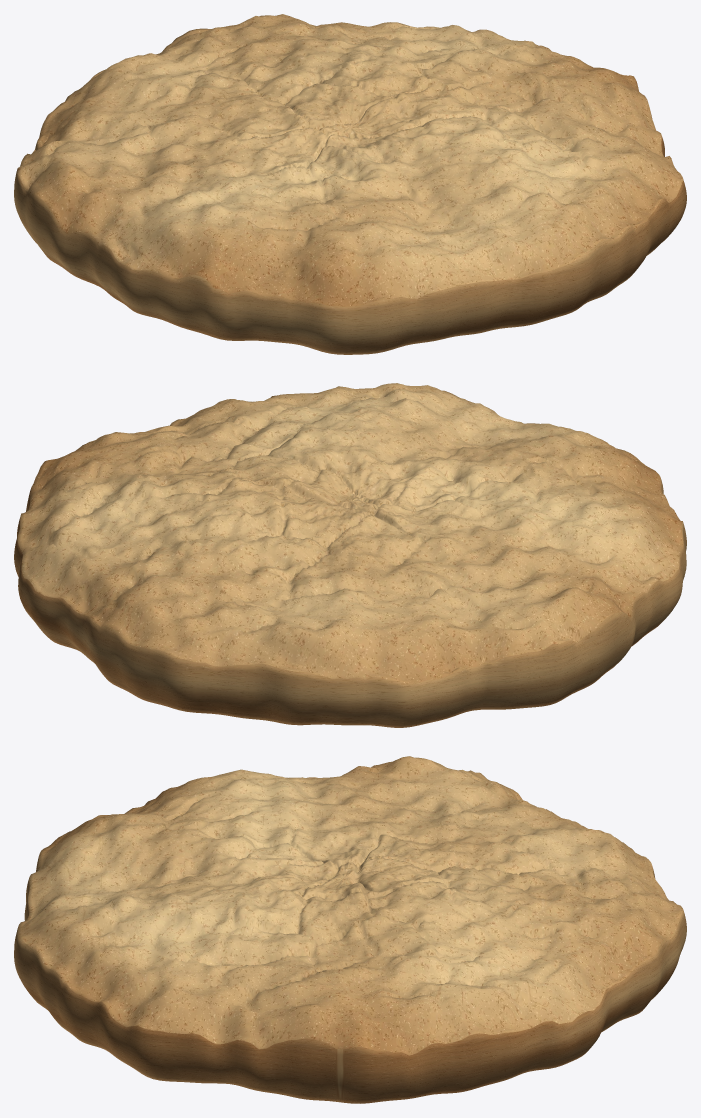
File: sugar.glb
The picture shows the model from 3 angles, top to bottom: view 1: azimuth 30°, elevation 25°; view 2: azimuth 150°, elevation 25°; view 3: azimuth 270°, elevation 25°; orthographic projection. The views are drawn at different scales.
Visible parts, largest first — view 1: Builder dough | sugar; view 2: Builder dough | sugar; view 3: Builder dough | sugar.
Part boxes in pixels (x1=…): Builder dough | sugar: x1=14, y1=14, x2=686, y2=354; Builder dough | sugar: x1=14, y1=383, x2=686, y2=727; Builder dough | sugar: x1=14, y1=756, x2=686, y2=1103.
Size of the model in its own units: 4.99 by 0.8773 by 4.98.
Materials: 2 (2 with a texture image).
